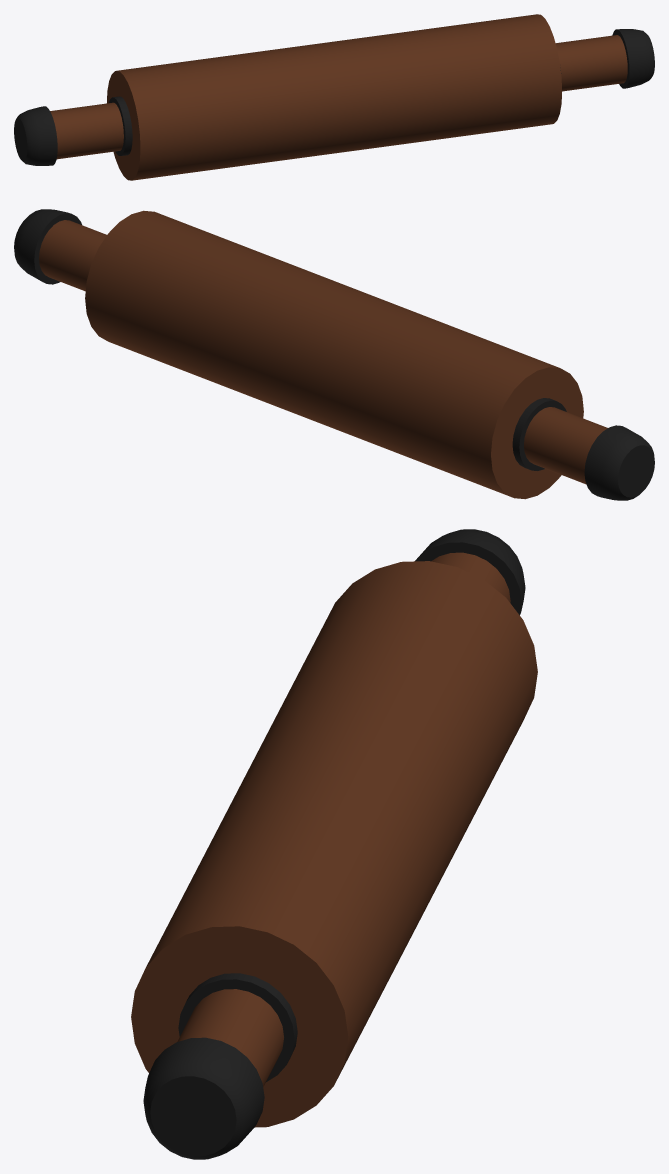
File: oklava.fbx
3 views of the same model, one above another, from view 1: azimuth 30°, elevation 25°; view 2: azimuth 150°, elevation 25°; view 3: azimuth 270°, elevation 25° (orthographic). The views are drawn at different scales.
Visible parts, largest first — view 1: Cylinder; view 2: Cylinder; view 3: Cylinder.
Part boxes in pixels (x1,y1,x2,y2): Cylinder: [14, 14, 654, 180]; Cylinder: [14, 209, 654, 500]; Cylinder: [131, 529, 537, 1159].
Size of the model in its own units: 142 by 24.16 by 44.19.
